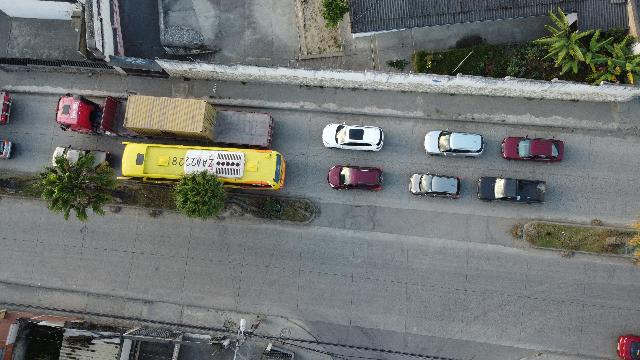Vehiculo: (476, 176, 546, 204), (322, 122, 383, 152), (424, 130, 484, 158), (502, 137, 564, 163), (51, 146, 110, 172), (328, 165, 384, 191), (410, 174, 460, 198), (618, 335, 640, 360), (0, 140, 12, 159)
